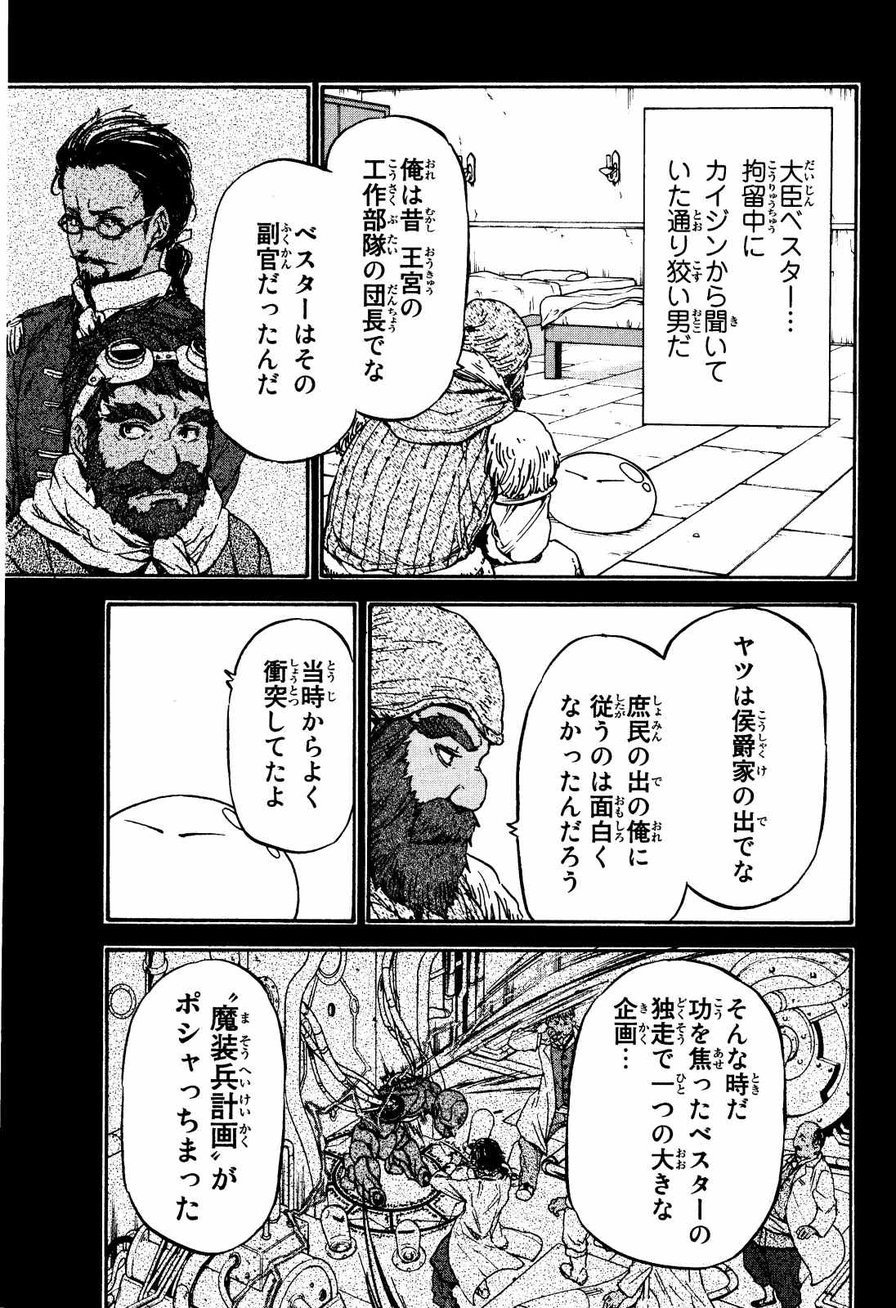bubbles: (503, 605, 831, 920), (198, 110, 485, 460), (562, 956, 789, 1274), (639, 103, 833, 430), (119, 957, 289, 1260), (204, 613, 366, 857)
